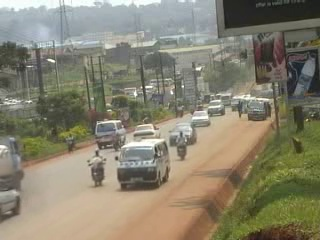Car: (0, 176, 23, 223), (166, 120, 198, 147), (129, 121, 160, 142), (188, 108, 215, 129), (204, 98, 225, 117)
Motorcycle: (84, 157, 108, 188), (174, 137, 189, 161), (110, 133, 121, 152)
